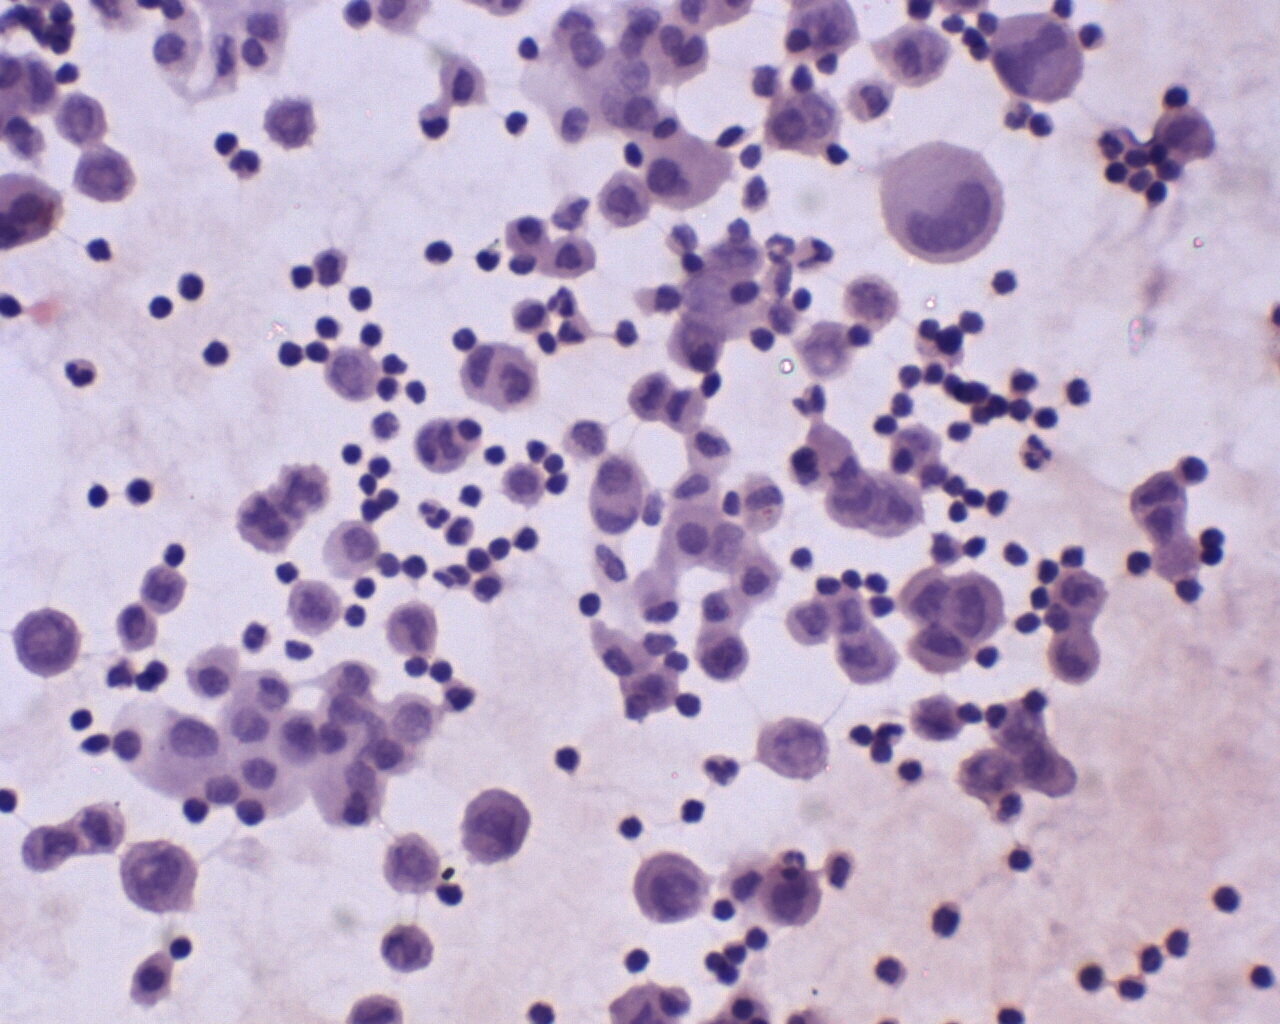ab: (876, 139, 1003, 264), (994, 14, 1089, 103), (117, 836, 200, 921), (629, 848, 714, 931), (458, 782, 531, 865), (757, 708, 831, 785), (11, 608, 83, 678), (71, 148, 140, 207), (52, 87, 111, 147)
lymph: (1207, 877, 1248, 922), (195, 334, 234, 371), (998, 845, 1038, 880), (418, 232, 455, 269), (123, 473, 157, 508), (893, 753, 924, 787), (988, 266, 1021, 296), (176, 267, 204, 301), (455, 323, 481, 353)
meso: (648, 129, 729, 214), (317, 520, 386, 581), (662, 498, 720, 569), (594, 169, 651, 227)
neutro: (697, 749, 745, 792), (61, 354, 98, 391)
